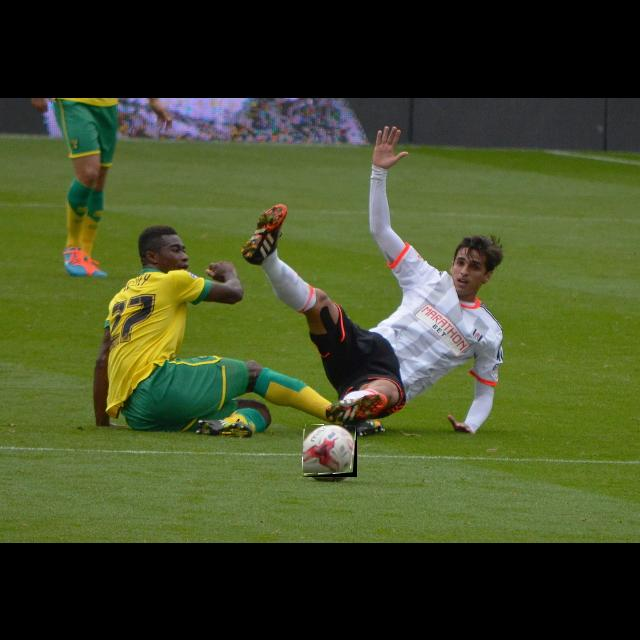Football: (303, 425, 357, 477)
